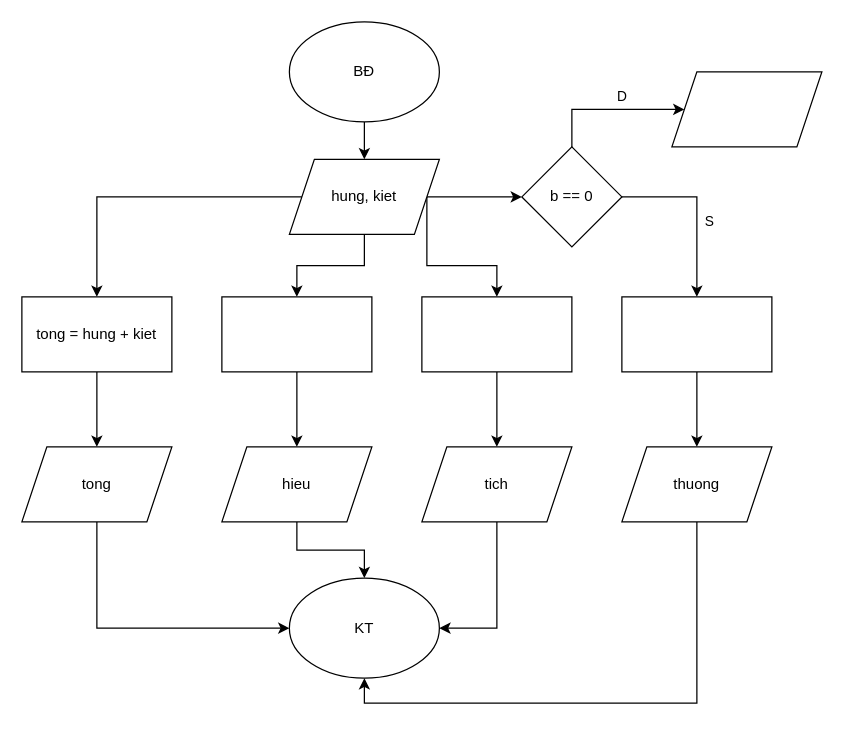
The diagram is 844 pixels wide and 735 high, and some of its shapes have lost their labels. The shapes that lost their labels are listed below. From the top down, each one's centre as x and y in pixels, then its label:
At point 746,109: "Loi phep tinh".
At point 296,334: "hieu = hung - kiet".
At point 496,334: "tich = hung * kiet".
At point 696,334: "thuong = hung / kiet".
